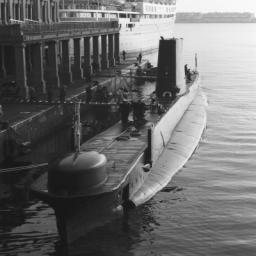submarine: (31, 32, 225, 248)
